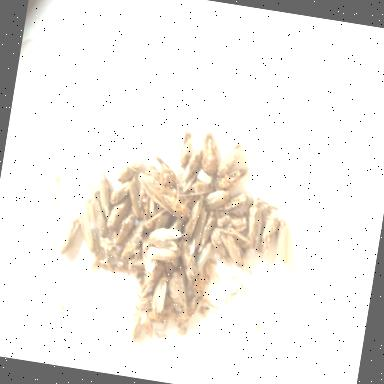pbw: (164, 266, 194, 317), (144, 151, 182, 186), (216, 228, 248, 269), (215, 186, 253, 220), (213, 160, 250, 194), (196, 129, 222, 177), (216, 137, 246, 178), (178, 238, 204, 282), (206, 225, 236, 263), (182, 192, 205, 240), (272, 216, 295, 264), (104, 192, 130, 234), (256, 210, 278, 258), (92, 170, 114, 218), (149, 267, 171, 315), (244, 198, 264, 250), (96, 234, 128, 266), (114, 150, 144, 184), (58, 214, 81, 258), (75, 214, 100, 253), (124, 182, 148, 222), (146, 224, 182, 250), (182, 142, 204, 184), (184, 282, 206, 319), (194, 236, 214, 275), (198, 208, 216, 249), (204, 186, 232, 212), (177, 128, 194, 169), (210, 131, 224, 175), (144, 244, 178, 262)
